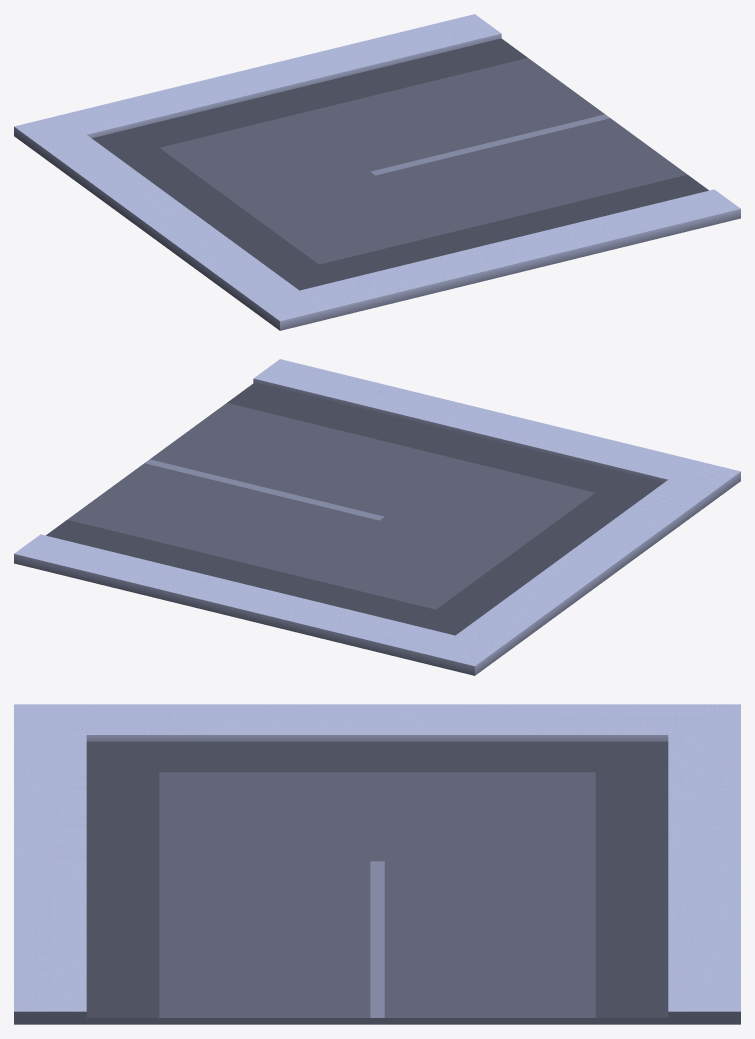
Rendered from road-end.glb.
3 views of the same model, one above another, from view 1: azimuth 30°, elevation 25°; view 2: azimuth 150°, elevation 25°; view 3: azimuth 270°, elevation 25° (orthographic). The views are drawn at different scales.
Visible parts, largest first — view 1: road-end; view 2: road-end; view 3: road-end.
Part boxes in pixels (x1=…): road-end: x1=14, y1=14, x2=740, y2=330; road-end: x1=14, y1=359, x2=740, y2=675; road-end: x1=14, y1=704, x2=740, y2=1024.
Size of the model in its own units: 1 by 0.02 by 1.
